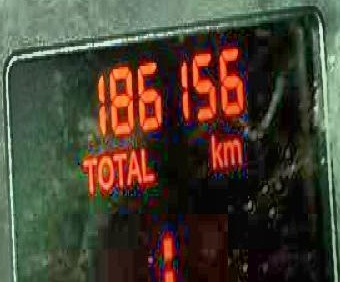1: (176, 58, 190, 120), (94, 69, 106, 136)
5: (190, 49, 216, 120)
6: (216, 45, 244, 116), (135, 58, 161, 131)
8: (106, 62, 134, 136)
X: (160, 231, 174, 282), (79, 154, 96, 194), (95, 151, 112, 189), (110, 149, 126, 187), (206, 129, 221, 169), (222, 136, 242, 165), (125, 147, 140, 185), (139, 147, 154, 182)
